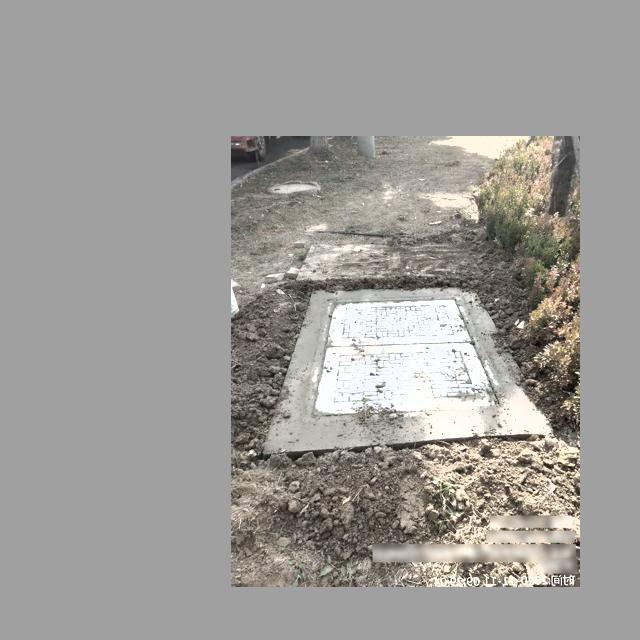good: (268, 278, 537, 436)
